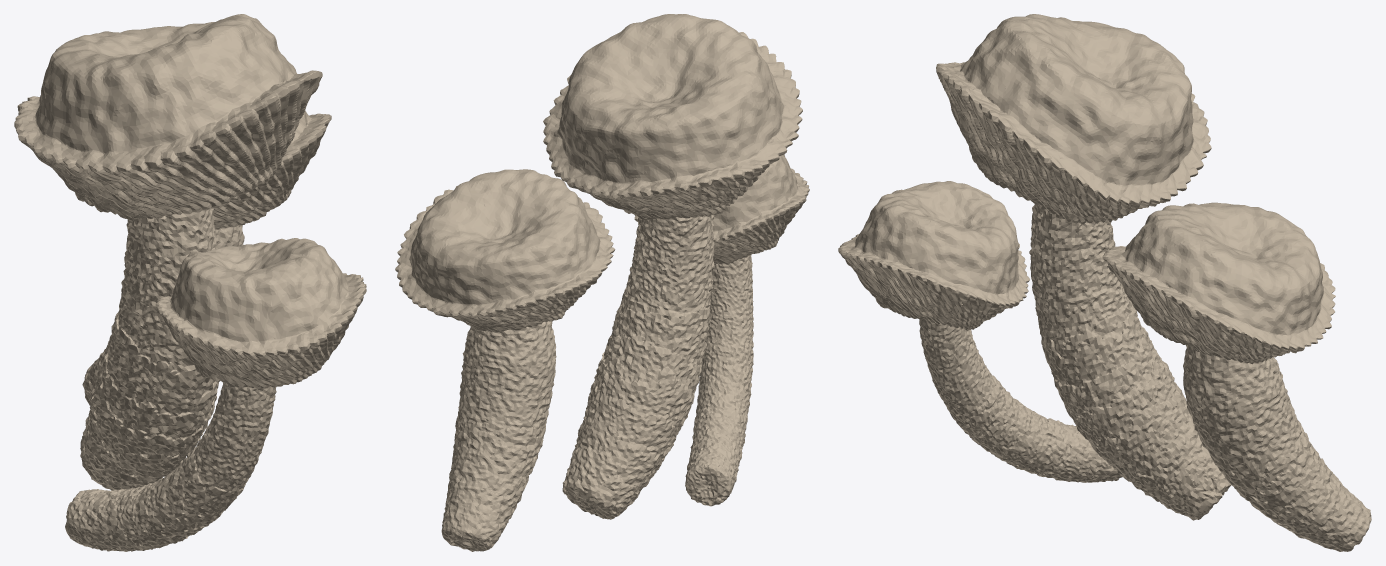
Rendered from 3dcodebench_Mushroom_seed0.glb.
The picture shows the model from 3 angles, left to right: view 1: azimuth 30°, elevation 25°; view 2: azimuth 150°, elevation 25°; view 3: azimuth 270°, elevation 25°; orthographic projection. The views are drawn at different scales.
Visible parts, largest first — view 1: object; view 2: object; view 3: object.
Part boxes in pixels (box(x1,y1,x2,y2)): object: box(14, 14, 366, 551); object: box(395, 14, 809, 551); object: box(838, 14, 1371, 551).
Size of the model in its own units: 0.4522 by 0.6327 by 0.6363.
